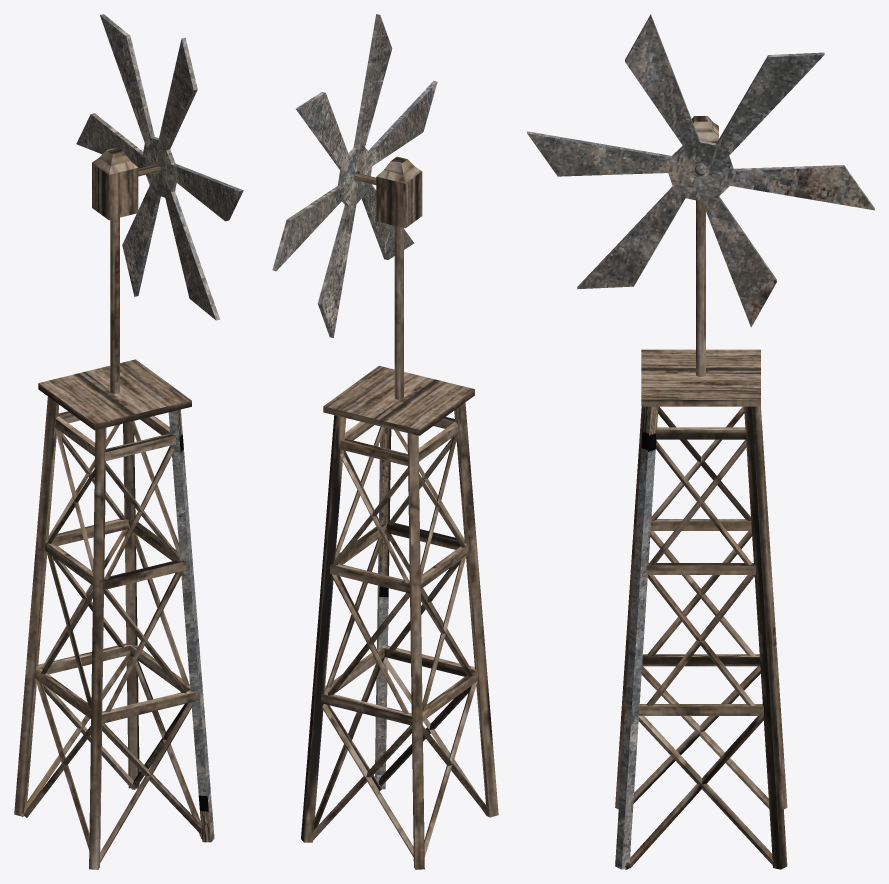
The model's file is windmill.fbx.
3 renders of one model, left to right at view 1: azimuth 30°, elevation 25°; view 2: azimuth 150°, elevation 25°; view 3: azimuth 270°, elevation 25°, orthographic. The views are drawn at different scales.
Parts seen in each view (by area): view 1: stantion, rotor; view 2: stantion, rotor; view 3: stantion, rotor.
Part boxes in pixels (x1,y1,x2,y2): stantion: (14,147,214,869); rotor: (76,14,243,320); stantion: (301,156,498,869); rotor: (272,14,437,337); stantion: (615,116,787,869); rotor: (527,14,874,327).
Bounding box in the file's own units: 370 × 2246 × 835.
Materials: 1 (1 with a texture image).
